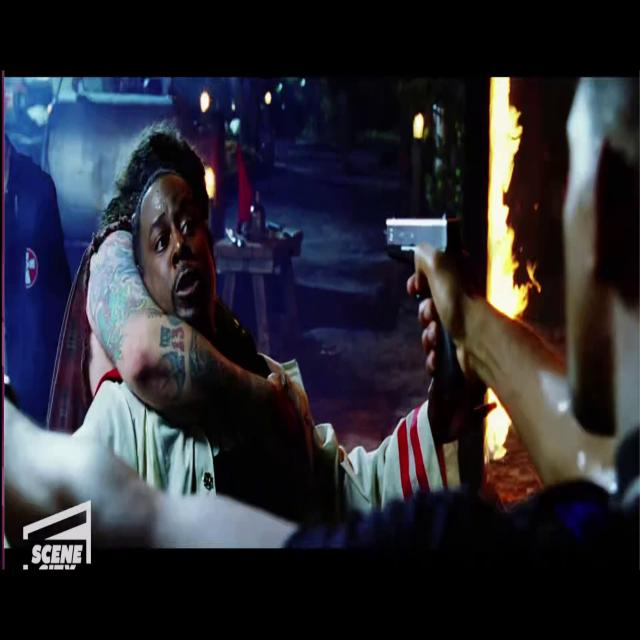weapons: (366, 193, 469, 385)
